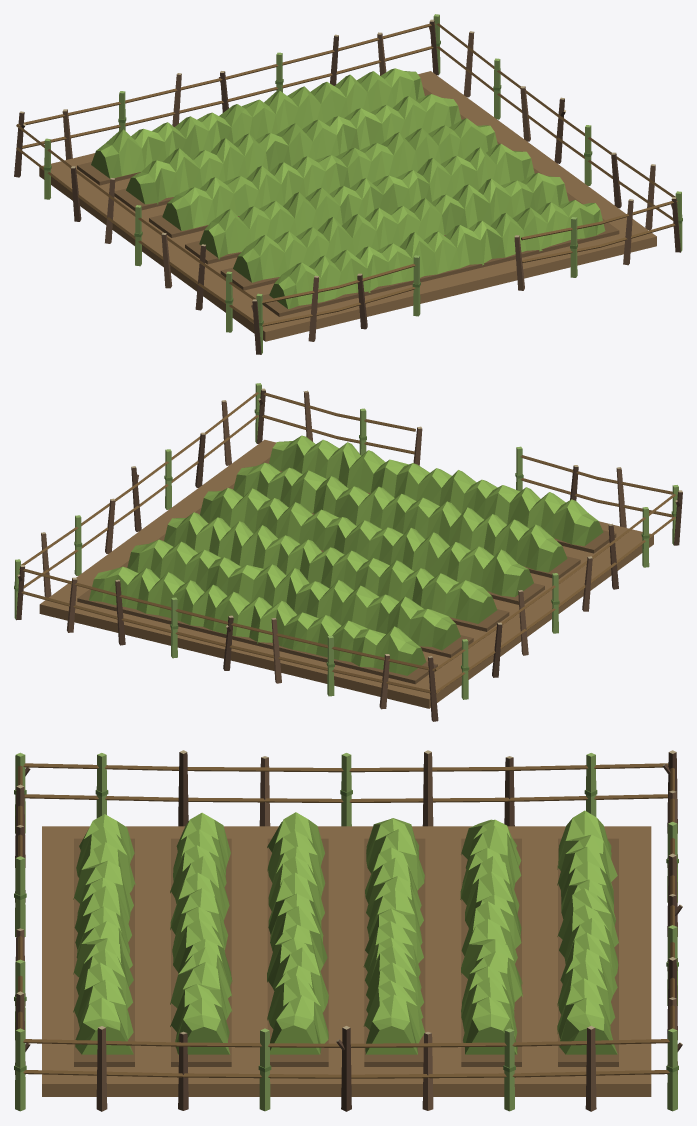
Rendered from field_green.glb.
3 renders of one model, top to bottom at view 1: azimuth 30°, elevation 25°; view 2: azimuth 150°, elevation 25°; view 3: azimuth 270°, elevation 25°, orthographic. The views are drawn at different scales.
Visible parts, largest first — view 1: body_nl, body, body_nh; view 2: body_nl, body, body_nh; view 3: body, body_nl, body_nh.
Part boxes in pixels (x1,y1,x2,y2): body_nl: (91, 68, 605, 309); body: (14, 14, 682, 354); body_nh: (16, 23, 677, 326); body_nl: (89, 435, 603, 675); body: (14, 383, 682, 721); body_nh: (19, 392, 675, 693); body: (14, 750, 682, 1111); body_nl: (73, 810, 619, 1054); body_nh: (18, 763, 674, 1078).
Size of the model in its own units: 3.76 by 0.5244 by 3.73.
